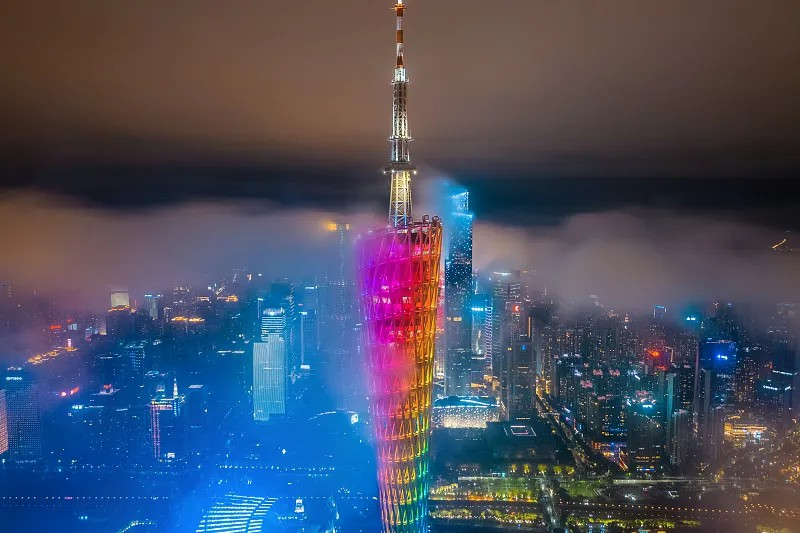Canton: (351, 4, 446, 533)
